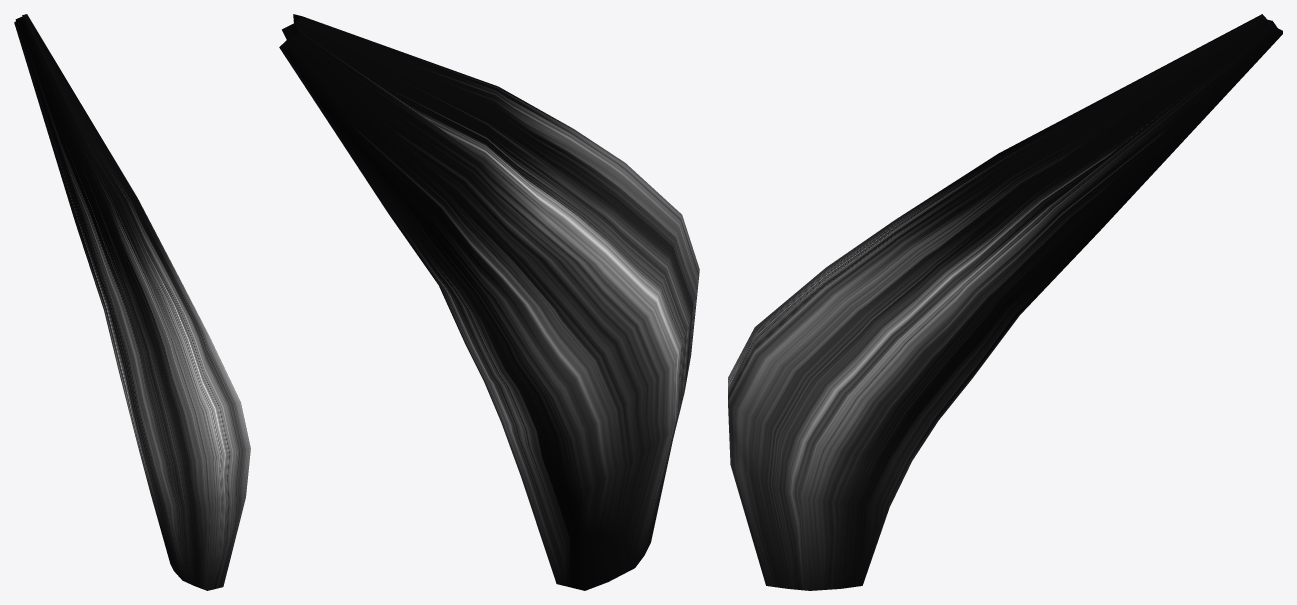
File: FX_lfl_wuqi_356_ciguang2.FBX
The picture shows the model from 3 angles, left to right: view 1: azimuth 30°, elevation 25°; view 2: azimuth 150°, elevation 25°; view 3: azimuth 270°, elevation 25°; orthographic projection. The views are drawn at different scales.
Visible parts, largest first — view 1: Cylinder001; view 2: Cylinder001; view 3: Cylinder001.
Boxes of the visible parts, box(x1,y1,x2,y2) form: Cylinder001: box(14, 14, 250, 590); Cylinder001: box(279, 14, 699, 590); Cylinder001: box(728, 14, 1282, 590).
Size of the model in its own units: 3.62 by 17.98 by 16.
1 material, 1 textured.
